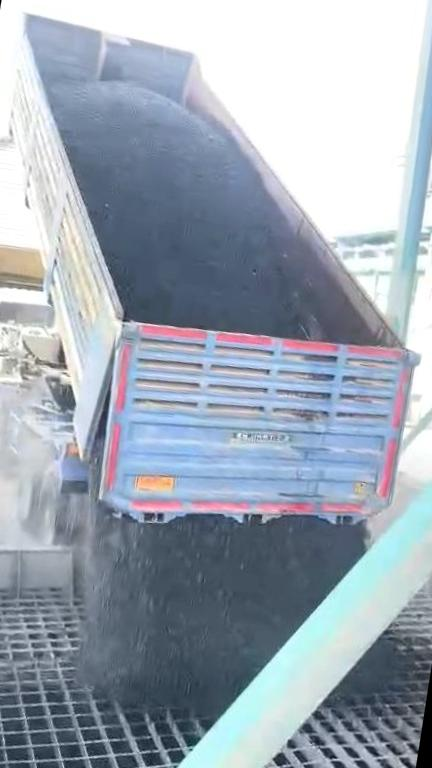gravel: (50, 37, 308, 337), (77, 508, 366, 714), (339, 637, 402, 695)
